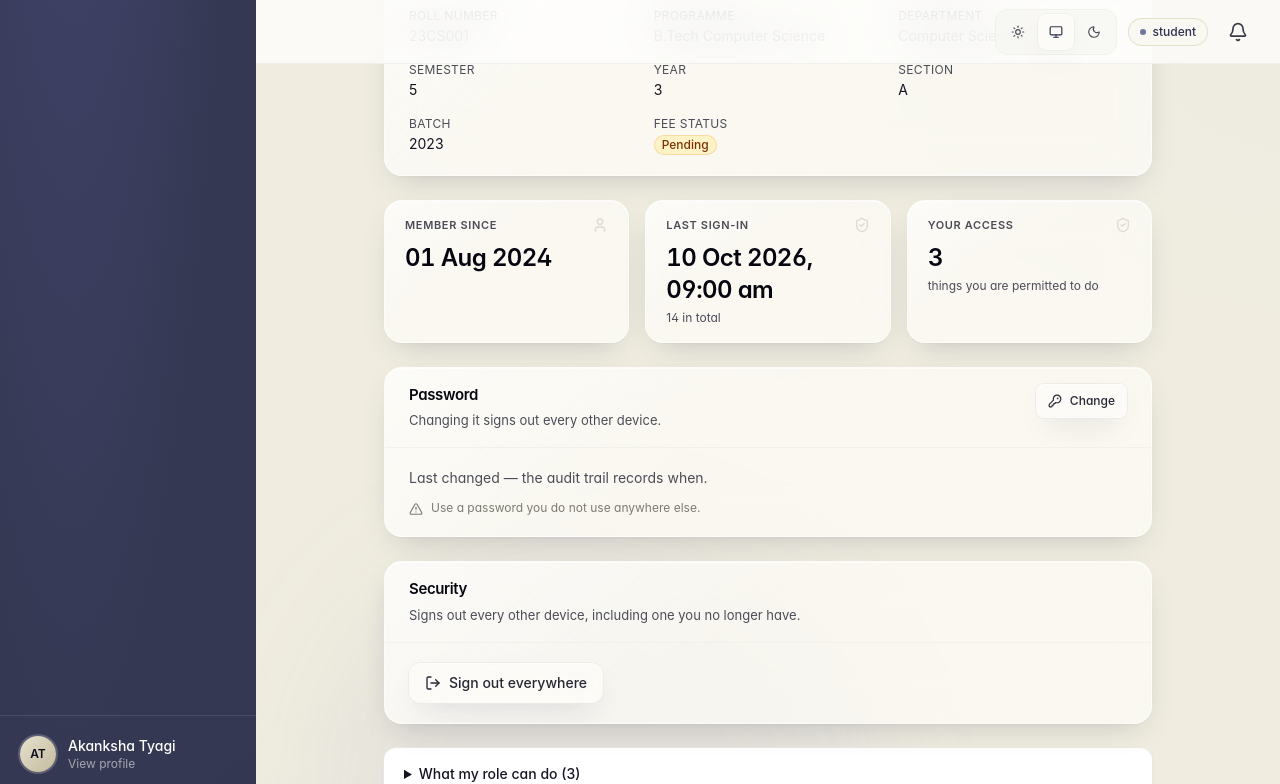
Test case: security actions › changes the password and says what it did to other devices
(page scrolled)
Click the button "Change": (1081, 400) [1036,384,1127,418]
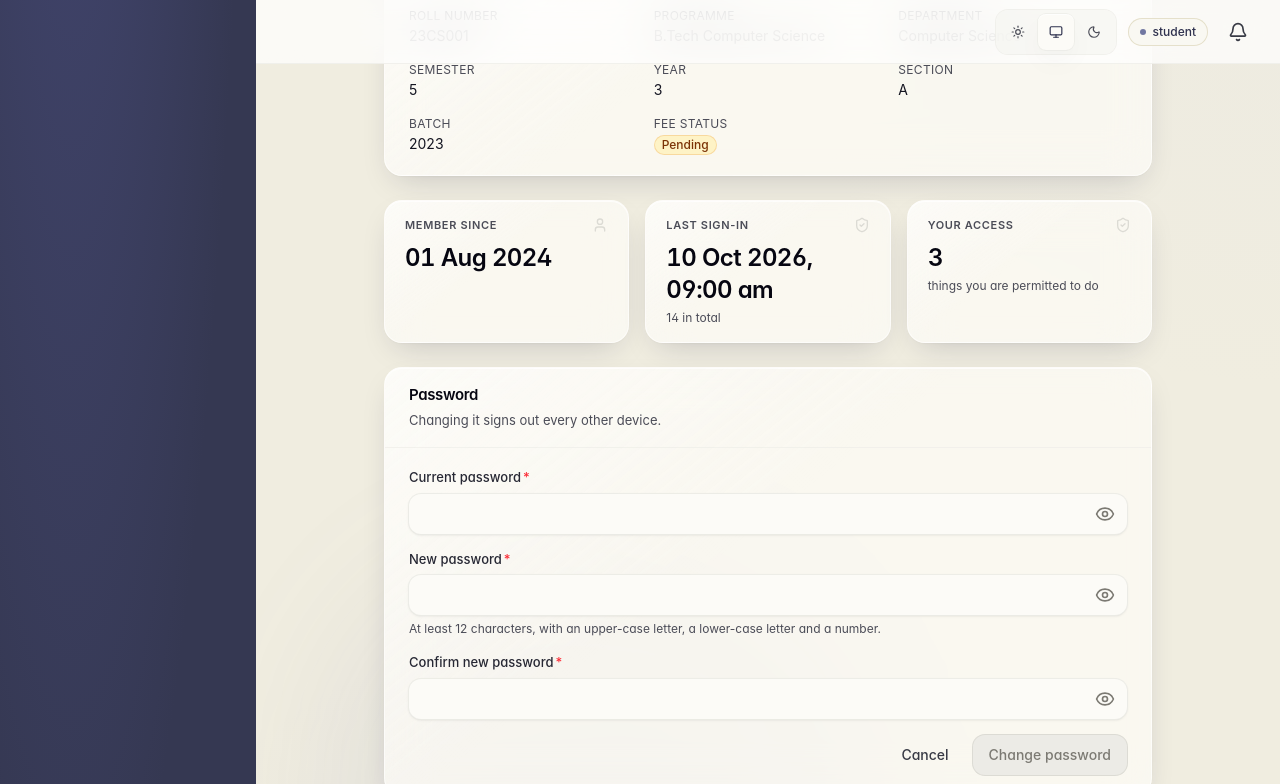
In the password field labelled "Current password*": (768, 514) [409,494,1127,534], type "TestPass123!"
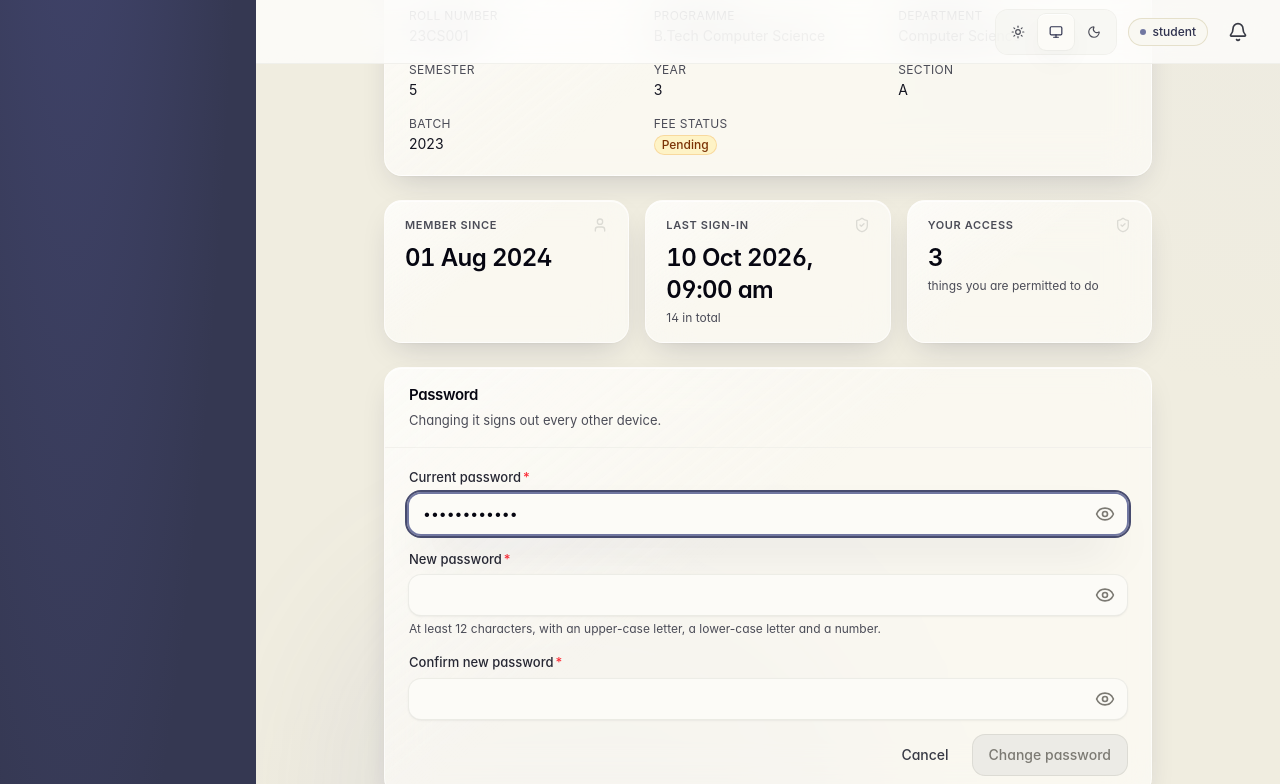
In the password field labelled "New password*": (768, 595) [409,575,1127,615], type "NewPassphrase2026x"
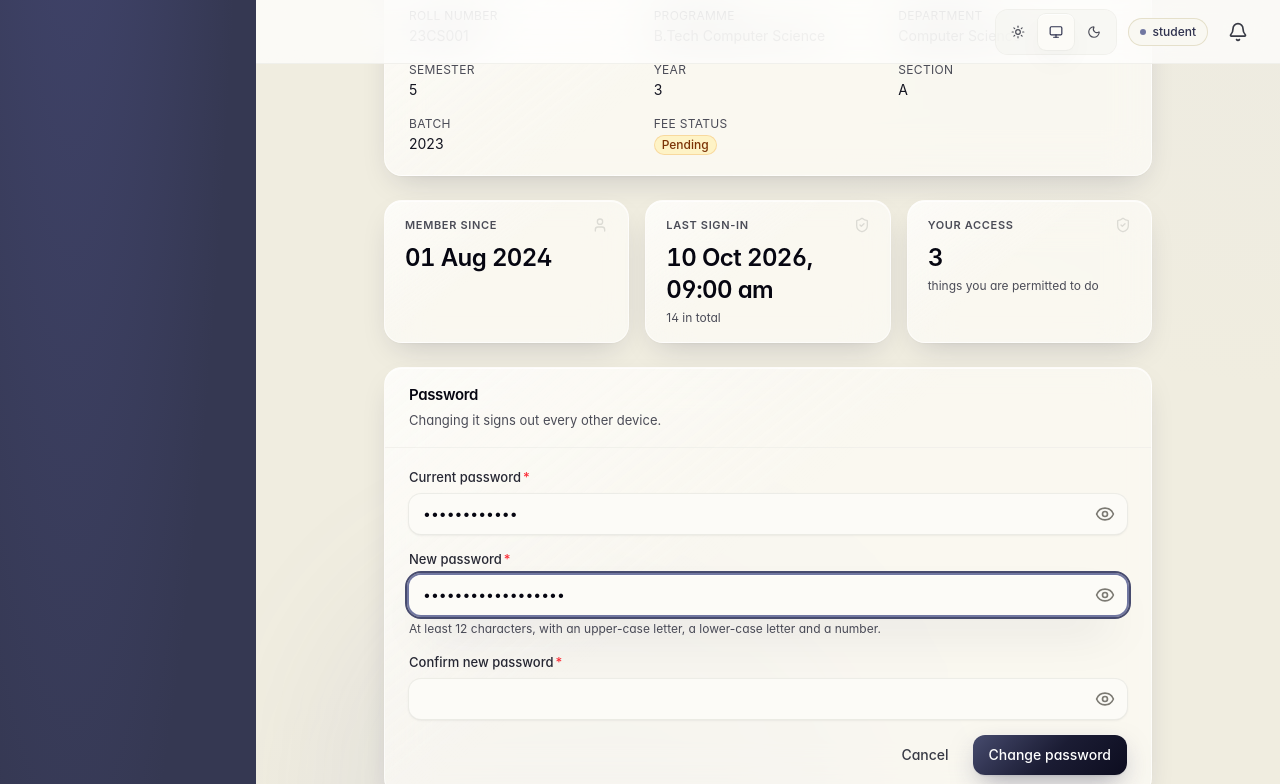
In the password field labelled "Confirm new password*": (768, 699) [409,679,1127,719], type "NewPassphrase2026x"
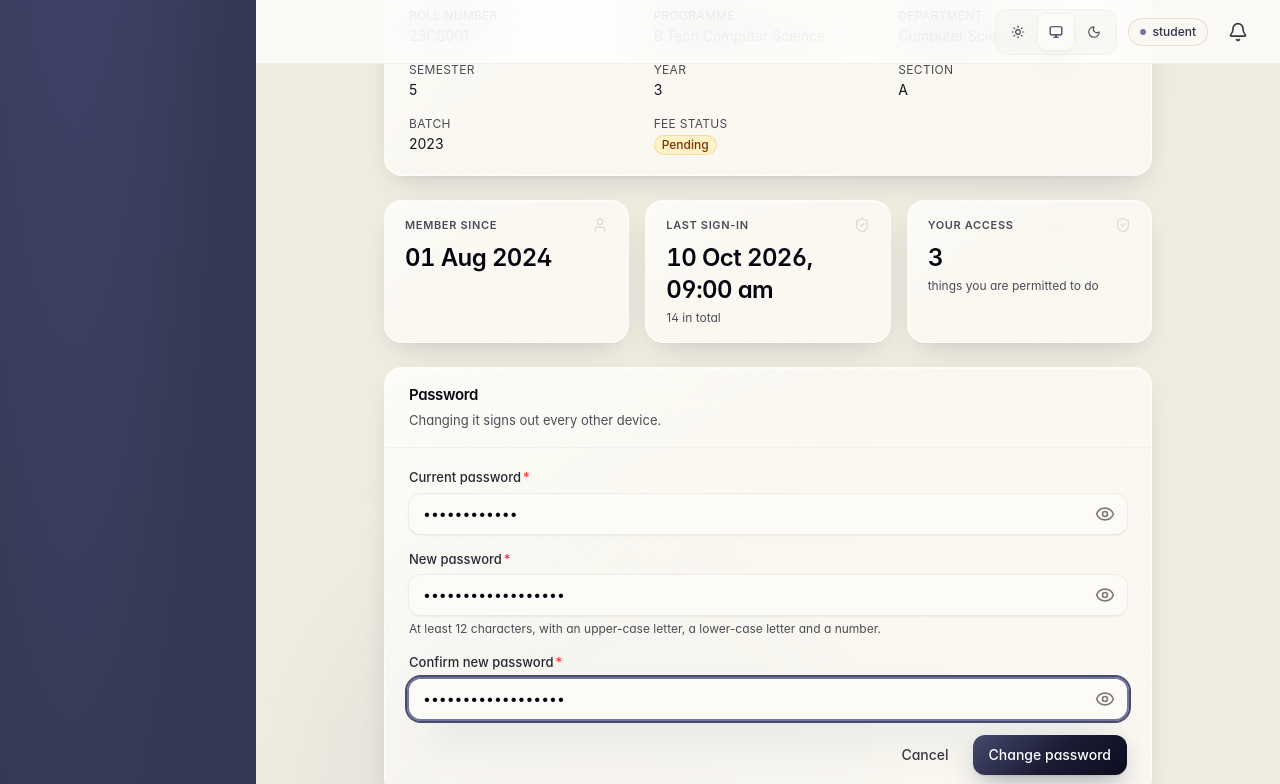
Click the button "Change password": (1050, 755) [973,735,1127,775]
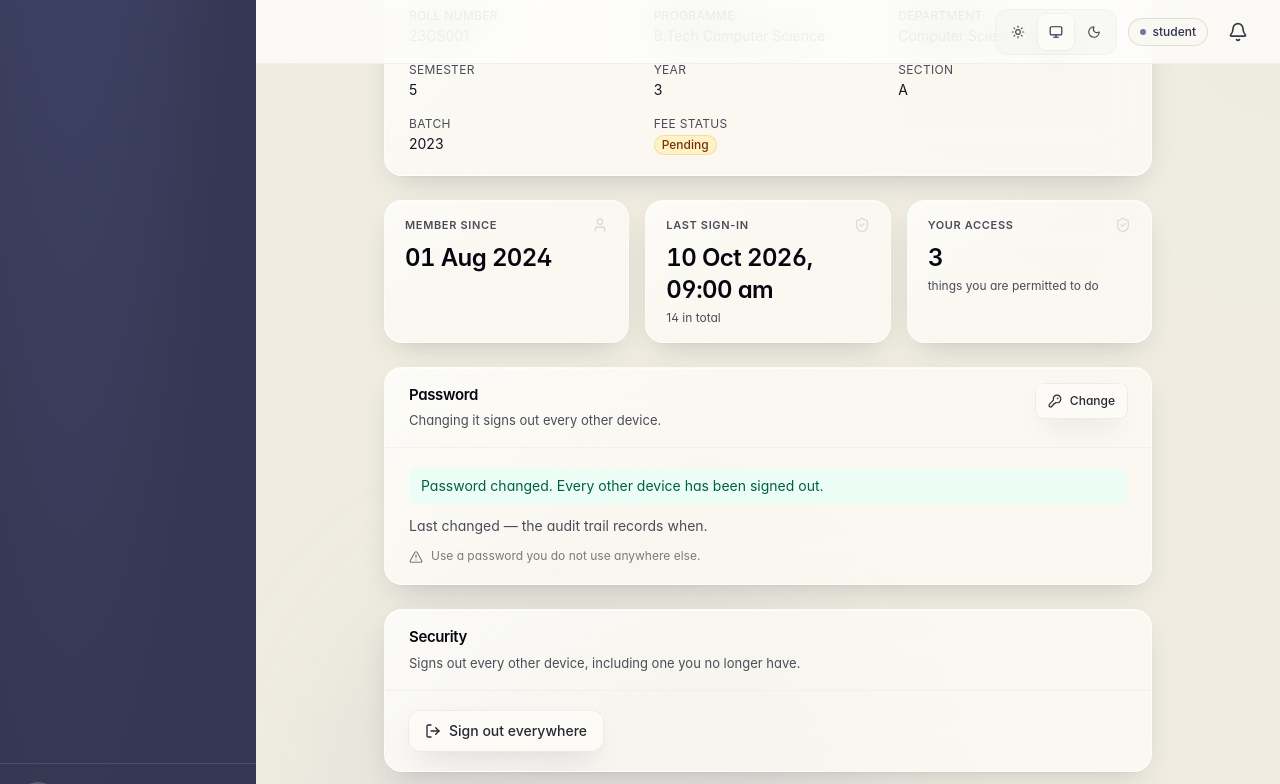
Expected: the message shows "Every other device has been signed out", [421,477,824,494]
